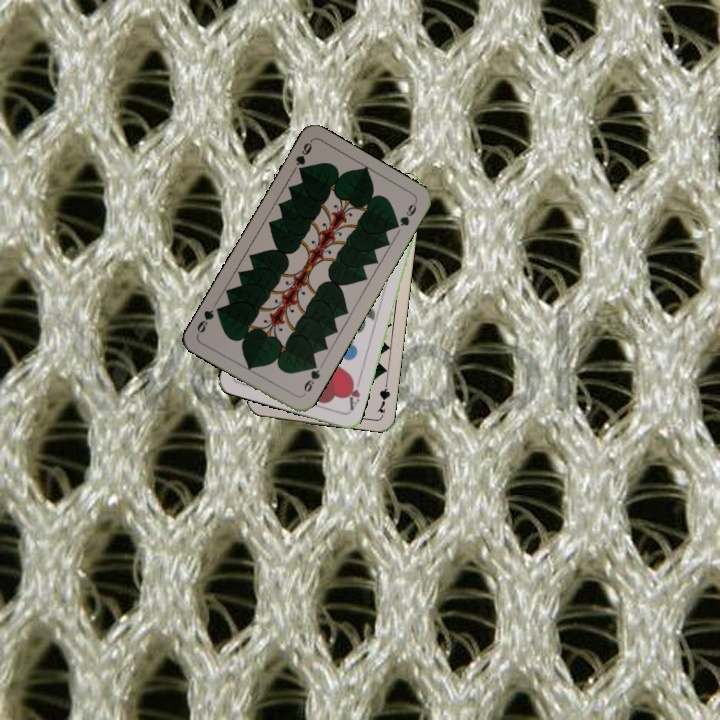G7: (373, 376, 393, 416)
G9: (291, 137, 315, 178), (299, 359, 323, 395)
HA: (343, 374, 364, 413)
